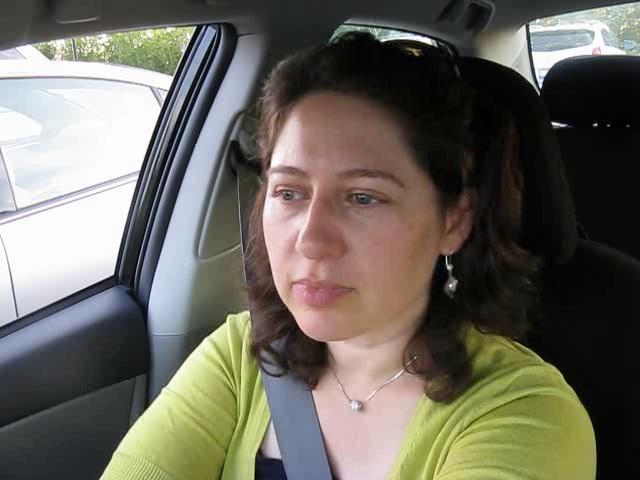no_yawn: (280, 271, 364, 312)
open_eyeL: (256, 174, 312, 215)
open_eyeR: (332, 180, 408, 218)
